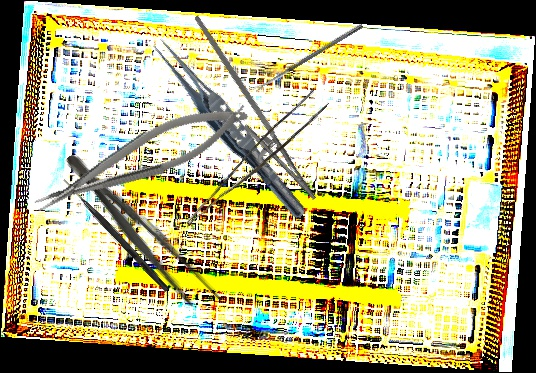Dressing Forceps: (56, 145, 226, 319)
Hook Surgical: (60, 177, 171, 293)
Needle Holder: (160, 14, 338, 212), (24, 91, 258, 223)
Surgical Spoon: (253, 23, 364, 92)
Tissue Forceps: (142, 32, 316, 224), (185, 85, 330, 241)
